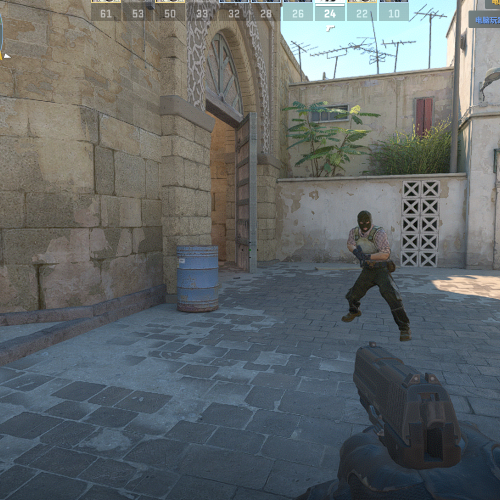t_body: (346, 211, 413, 341)
t_head: (356, 211, 373, 232)
